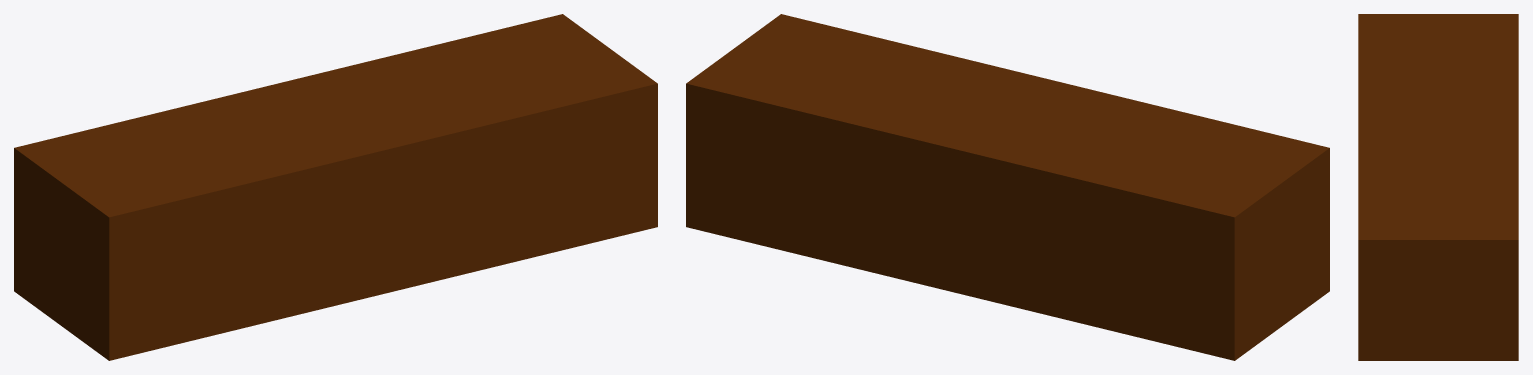
Rendered from tronco.fbx.
The picture shows the model from 3 angles, left to right: view 1: azimuth 30°, elevation 25°; view 2: azimuth 150°, elevation 25°; view 3: azimuth 270°, elevation 25°; orthographic projection. The views are drawn at different scales.
Visible parts, largest first — view 1: tronco; view 2: tronco; view 3: tronco.
Boxes of the visible parts, x1,y1,x2,y2 form: tronco: (14, 14, 657, 360); tronco: (686, 14, 1329, 360); tronco: (1358, 14, 1518, 360).
Size of the model in its own units: 4 by 1 by 1.2.
